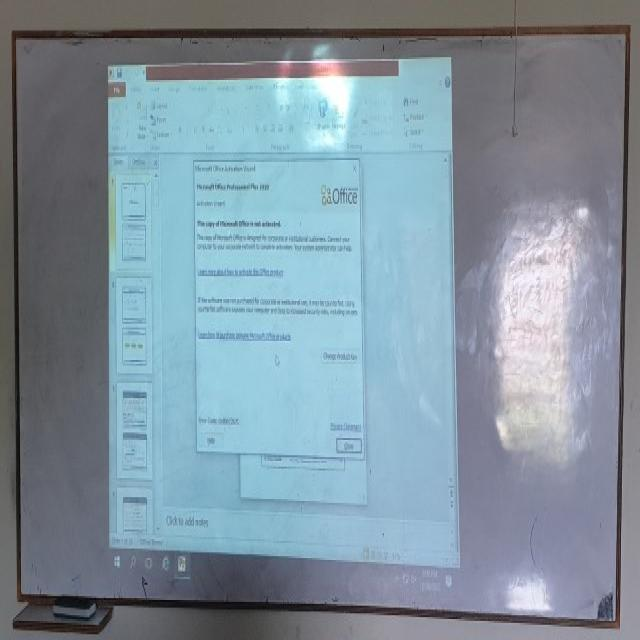Slide: (107, 55, 463, 600)
White-board: (14, 30, 631, 626)
